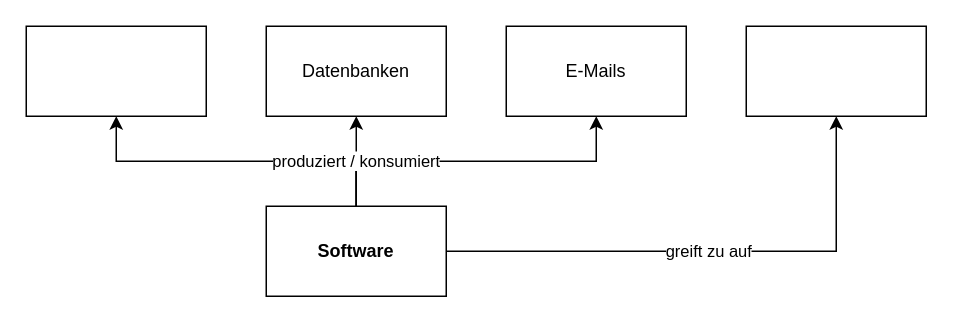
Some shapes in this 953 by 323 pixel diagram are drawn without their labels. The shapes that lost their labels are listed below. From the top down, each one's centre as x and y in pixels, then its label:
point (115, 70): Dateien
point (835, 70): fremde Systeme
